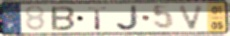5: (151, 4, 177, 32)
8: (23, 4, 50, 33)
B: (50, 5, 76, 32)
J: (115, 5, 142, 32)
T: (86, 6, 109, 31)
V: (177, 4, 207, 31)
